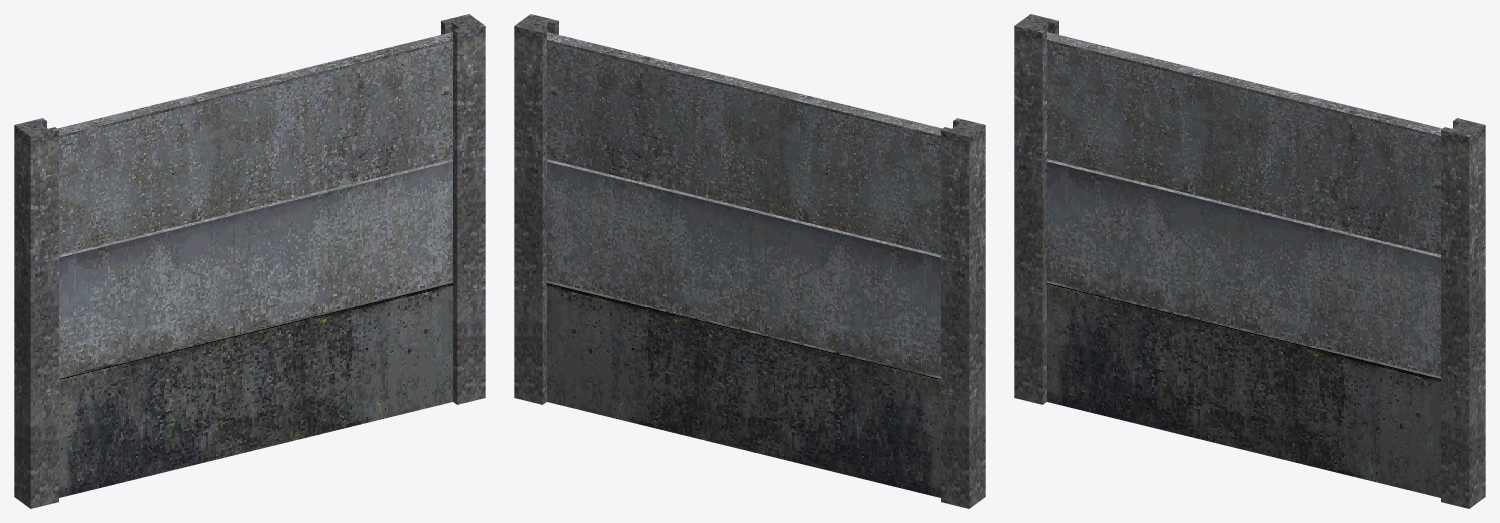
File: plackard_closed_full.glb
3 renders of one model, left to right at view 1: azimuth 30°, elevation 25°; view 2: azimuth 150°, elevation 25°; view 3: azimuth 330°, elevation 25°, orthographic.
Parts seen in each view (by area): view 1: plackard_closed_full; view 2: plackard_closed_full; view 3: plackard_closed_full.
Boxes of the visible parts, x1,y1,x2,y2 form: plackard_closed_full: (14, 14, 485, 508); plackard_closed_full: (514, 14, 985, 508); plackard_closed_full: (1014, 14, 1485, 508).
Bounding box in the file's own units: 3.2 × 2.5 × 0.2.
Materials: 1 (1 with a texture image).
